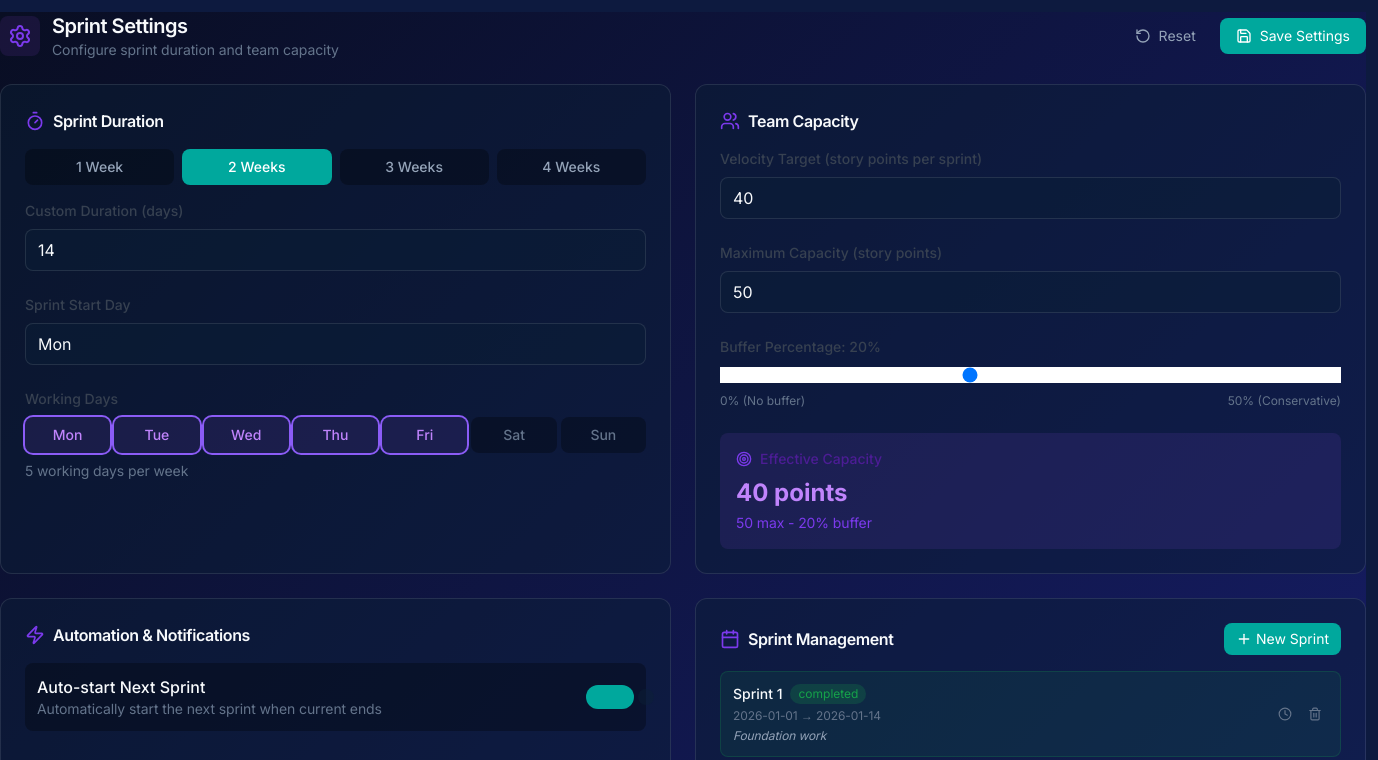
Scenario: SprintSettings — duration presets › clicking 1 Week preset sets duration to 7
What coordinates should you click on to do the following:
click the button "1 Week"
I would click on:
 (100, 167)
Its box is [25,149,174,185].
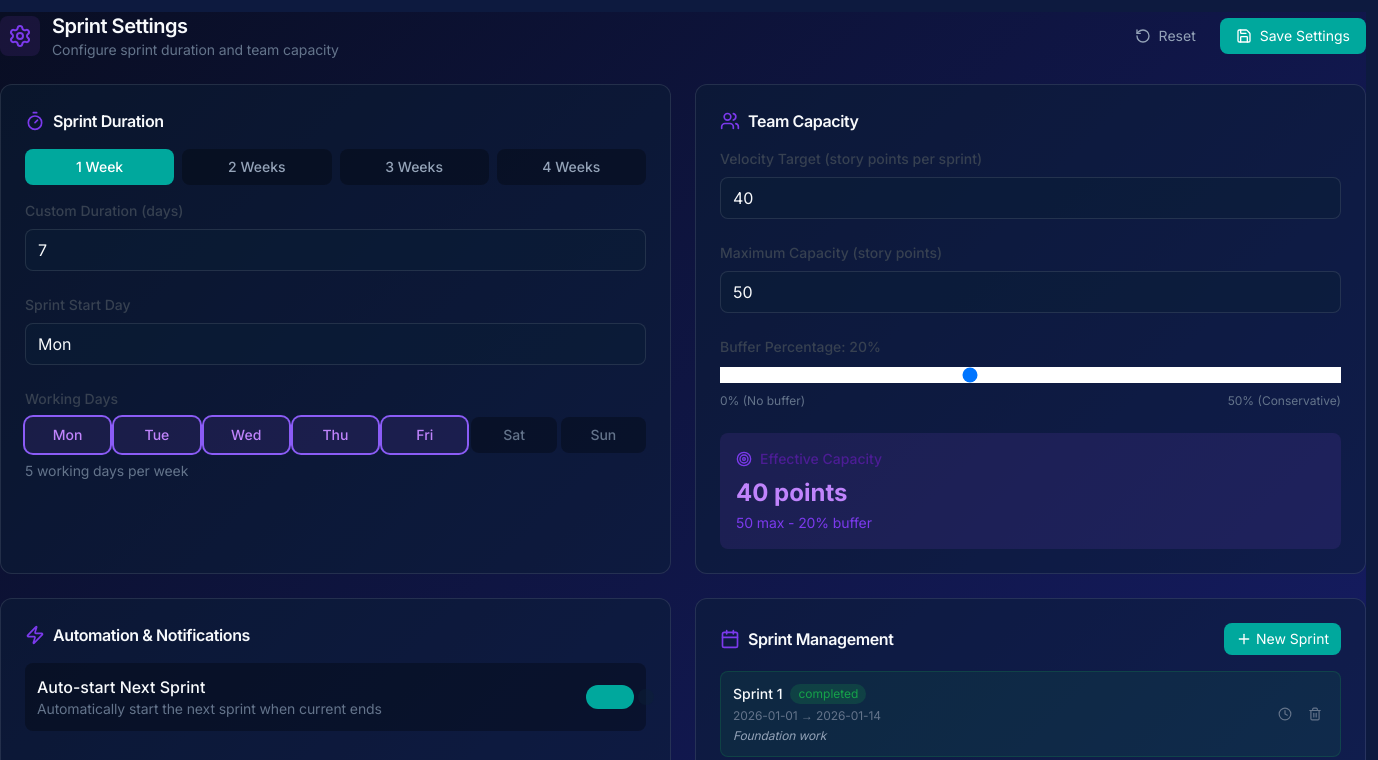
Expected: the number field below "Custom Duration (days)" holds "7", [25,229,646,271]
